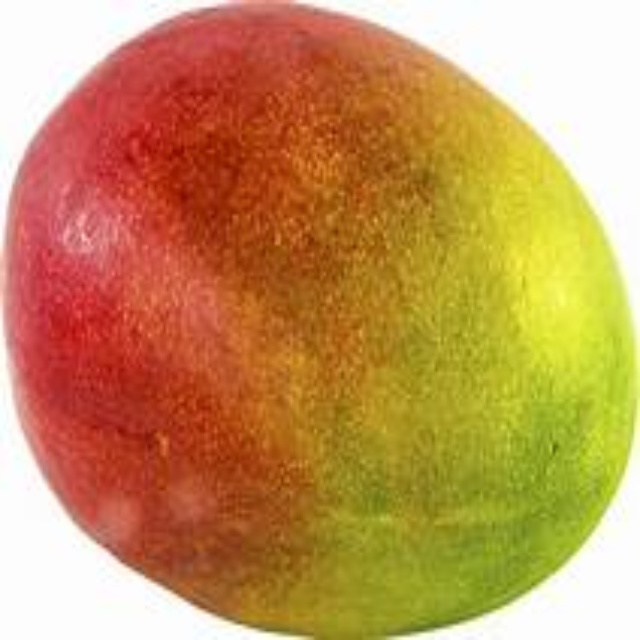mango: (5, 0, 638, 638)
